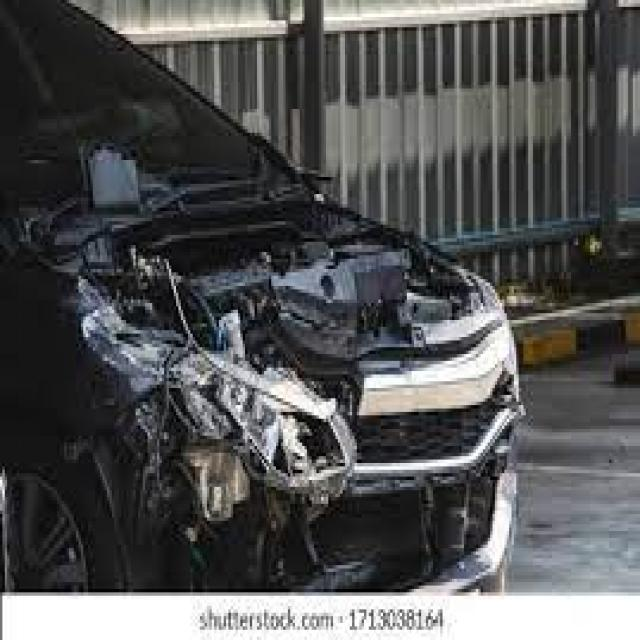severe: (61, 145, 512, 539)
